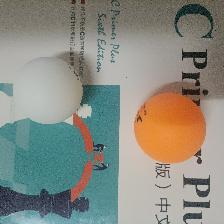WhiteBall: (13, 57, 83, 124)
YellowBall: (133, 92, 206, 163)
